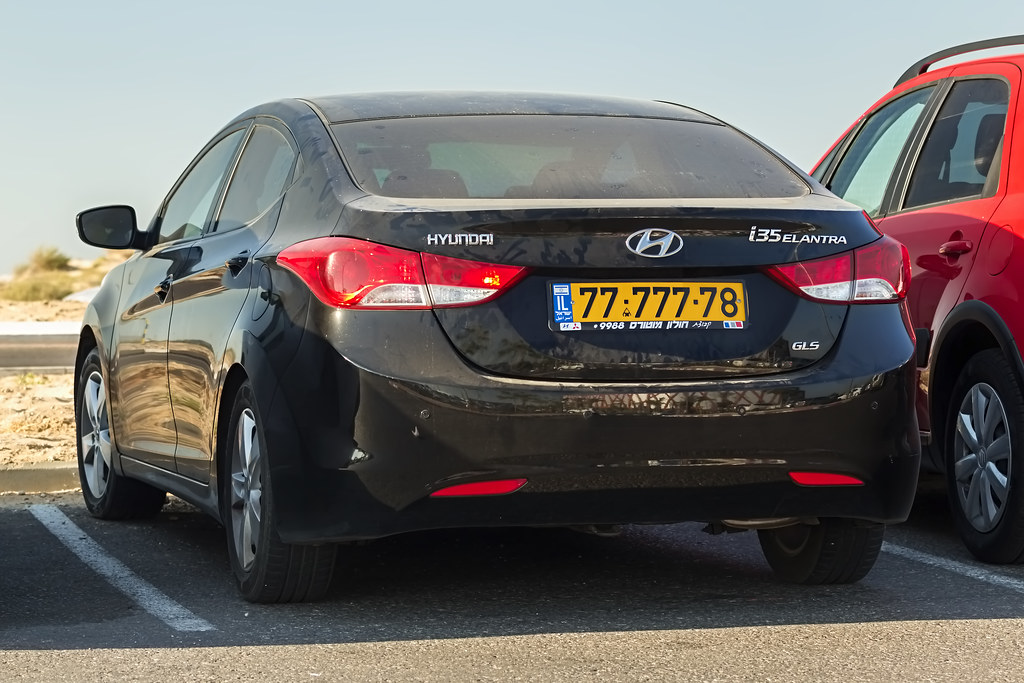licence: (543, 271, 752, 336)
